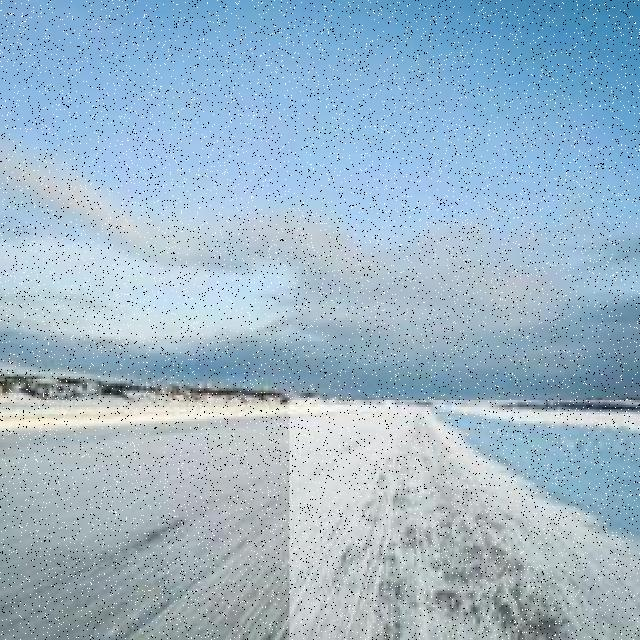ice-road: (312, 401, 640, 640)
